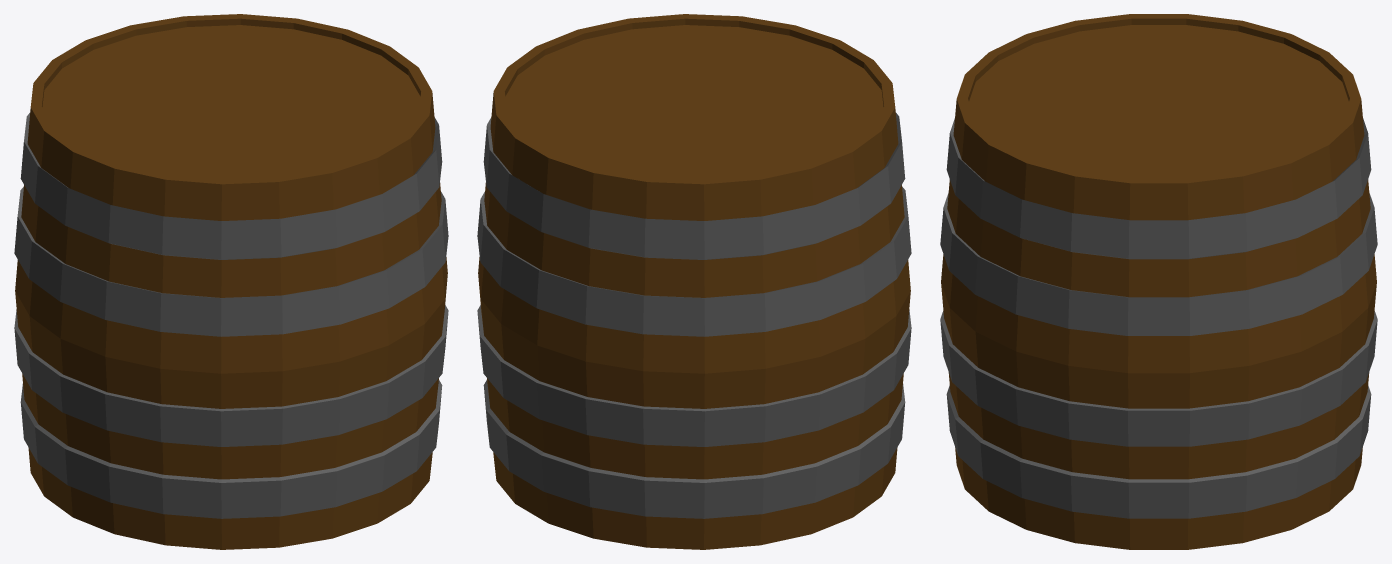
The model's file is Barril_1.fbx.
3 views of the same model, side by side, from view 1: azimuth 30°, elevation 25°; view 2: azimuth 150°, elevation 25°; view 3: azimuth 270°, elevation 25° (orthographic).
Parts seen in each view (by area): view 1: Barril_1; view 2: Barril_1; view 3: Barril_1.
Boxes of the visible parts, left/top/right/bottom form: Barril_1: left=14, top=14, right=448, bottom=549; Barril_1: left=477, top=14, right=911, bottom=549; Barril_1: left=940, top=14, right=1377, bottom=549.
Bounding box in the file's own units: 214 × 200 × 216.
